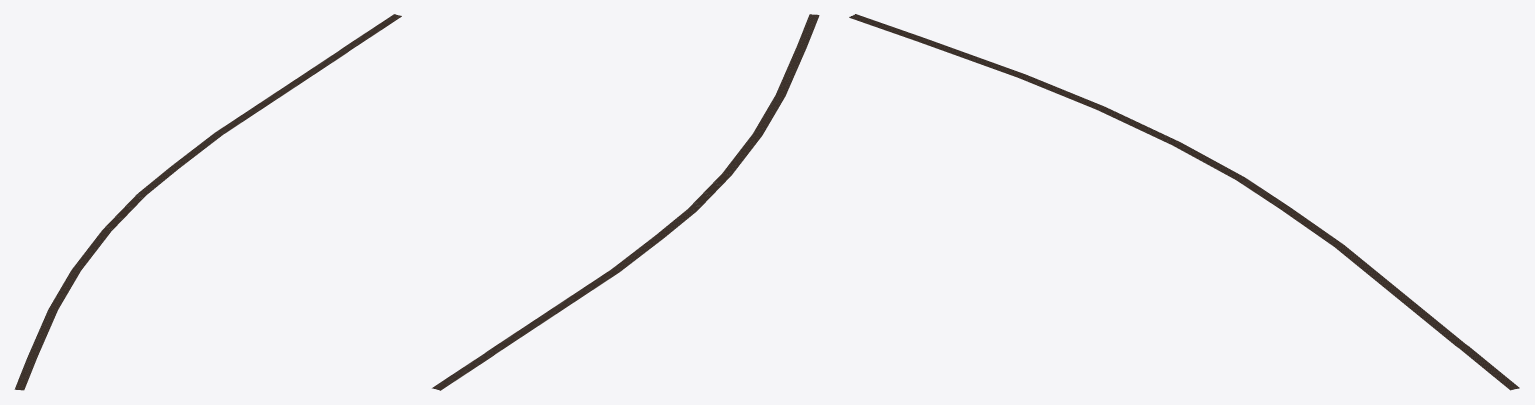
The model's file is kobe_0038.glb.
The picture shows the model from 3 angles, left to right: view 1: azimuth 30°, elevation 25°; view 2: azimuth 210°, elevation 25°; view 3: azimuth 270°, elevation 25°; orthographic projection. The views are drawn at different scales.
Visible parts, largest first — view 1: ballast_top, oxidised_rail_profiles; view 2: ballast_top, oxidised_rail_profiles, ballast_left; view 3: ballast_top, oxidised_rail_profiles.
Boxes of the visible parts, x1,y1,x2,y2 form: ballast_top: (15,14,401,390); oxidised_rail_profiles: (17,14,400,389); ballast_top: (432,14,818,390); oxidised_rail_profiles: (433,15,816,389); ballast_left: (440,15,819,390); ballast_top: (849,14,1519,390); oxidised_rail_profiles: (850,14,1517,389).
Bounding box in the file's own units: 602 × 0.819 × 454.
4 materials, 3 textured.
